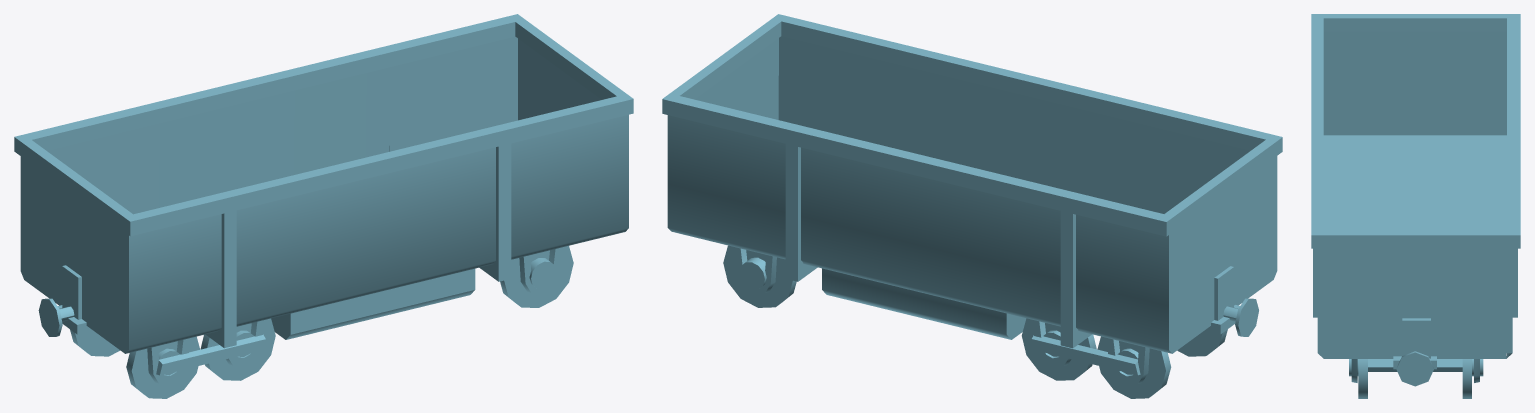
Rendered from Train_Wagon2.fbx.
3 views of the same model, side by side, from view 1: azimuth 30°, elevation 25°; view 2: azimuth 150°, elevation 25°; view 3: azimuth 270°, elevation 25° (orthographic). The views are drawn at different scales.
Visible parts, largest first — view 1: Train_Wagon2; view 2: Train_Wagon2; view 3: Train_Wagon2.
Boxes of the visible parts, bbox=[...] form: Train_Wagon2: bbox=[14, 14, 633, 398]; Train_Wagon2: bbox=[662, 14, 1282, 398]; Train_Wagon2: bbox=[1311, 14, 1520, 398].
Size of the model in its own units: 722 by 261 by 259.
